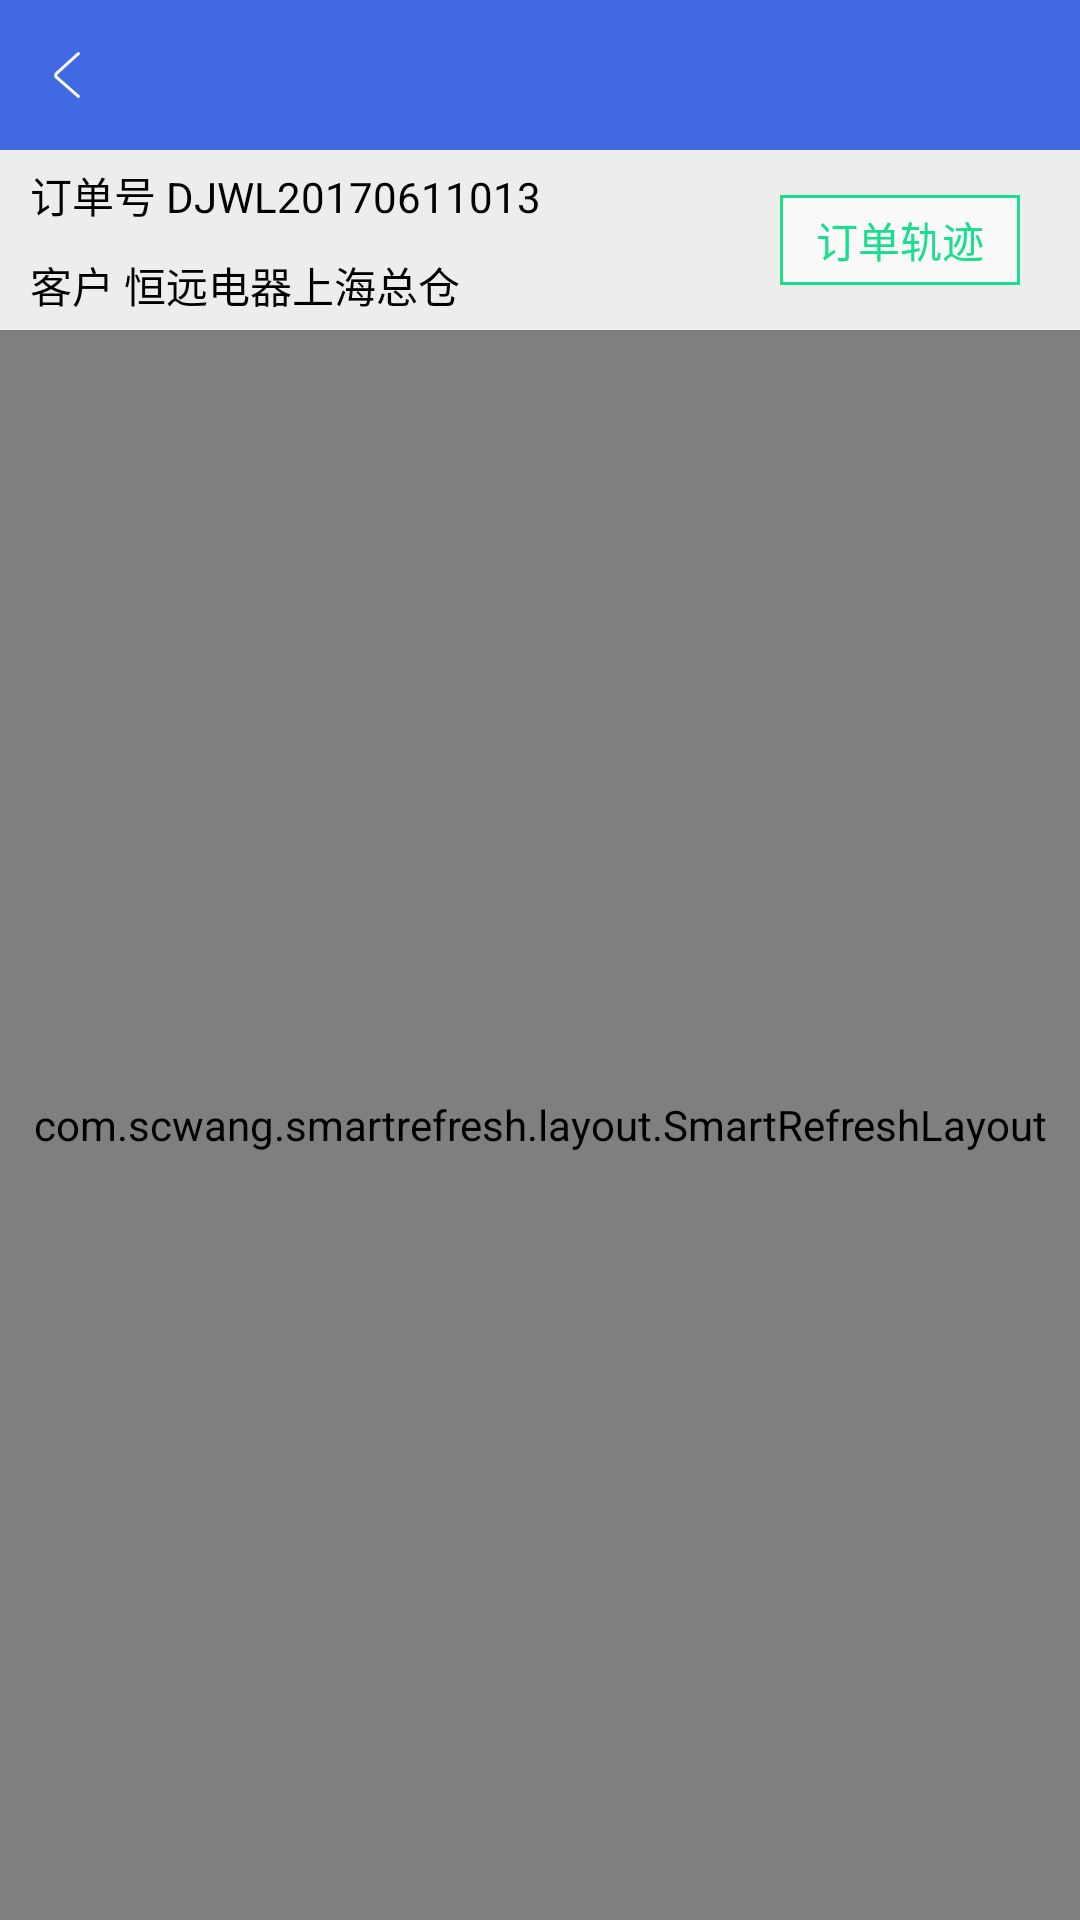

Icon bounding boxes for this 1080px x 1920px phone screenshot, format bbox(x1, y1, x2, y2):
back: bbox(54, 52, 80, 98)
